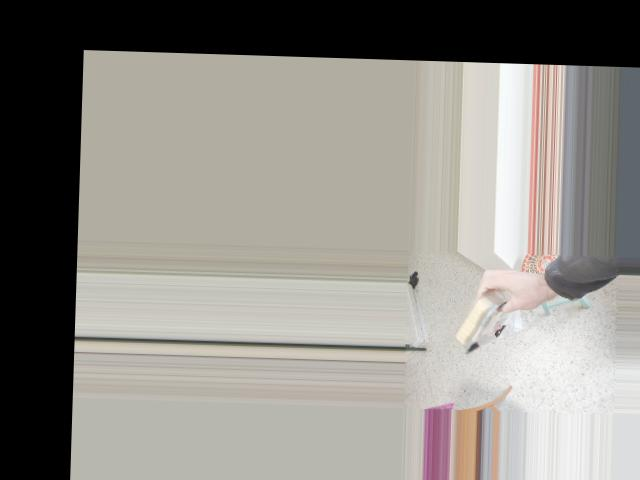cheese: (441, 258, 530, 368)
